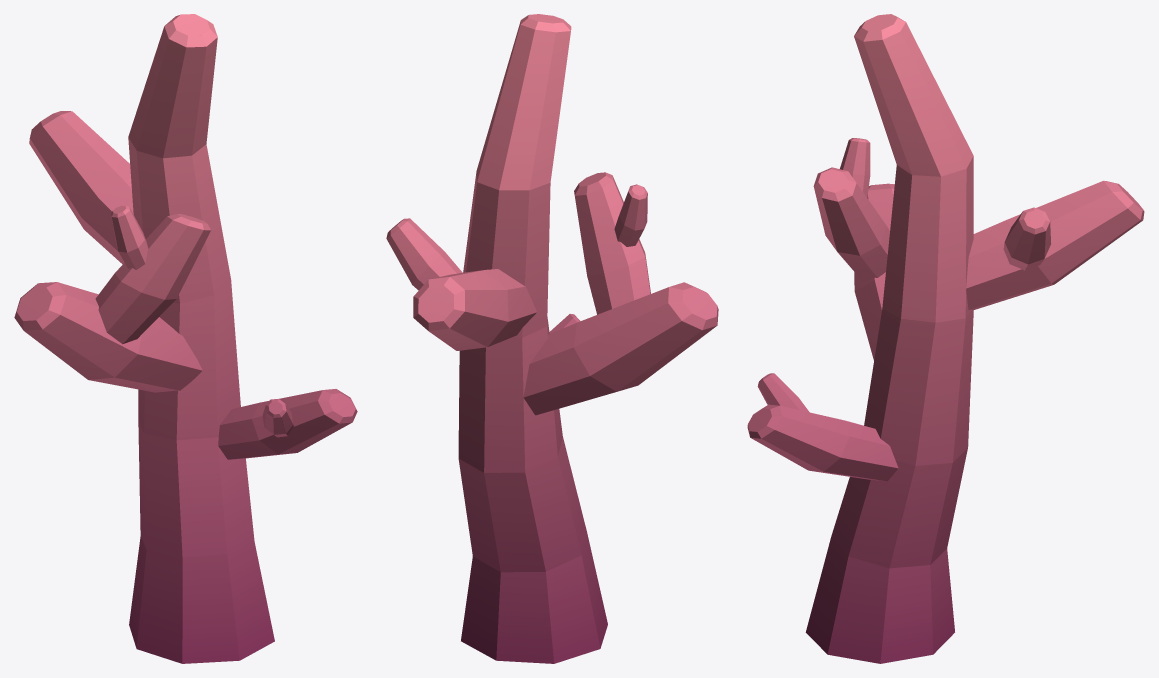
File: Coral_03.fbx
3 views of the same model, side by side, from view 1: azimuth 30°, elevation 25°; view 2: azimuth 150°, elevation 25°; view 3: azimuth 270°, elevation 25° (orthographic). The views are drawn at different scales.
Visible parts, largest first — view 1: Coral_01; view 2: Coral_01; view 3: Coral_01.
Part boxes in pixels (x1,y1,x2,y2): Coral_01: [14, 14, 357, 663]; Coral_01: [386, 14, 718, 663]; Coral_01: [747, 14, 1144, 663].
Size of the model in its own units: 43.08 by 91.99 by 54.38.
1 material, 1 textured.
